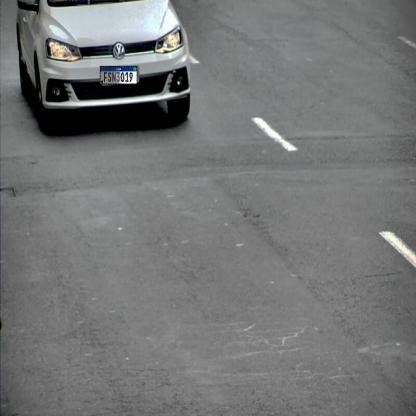PlacaM: (100, 66, 137, 84)
